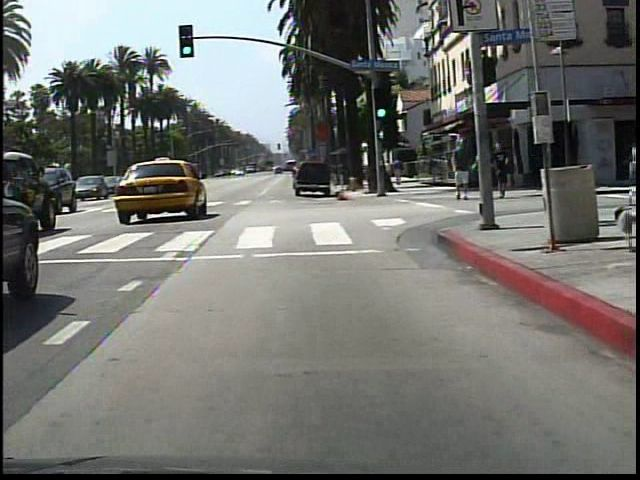person: (445, 134, 473, 204)
